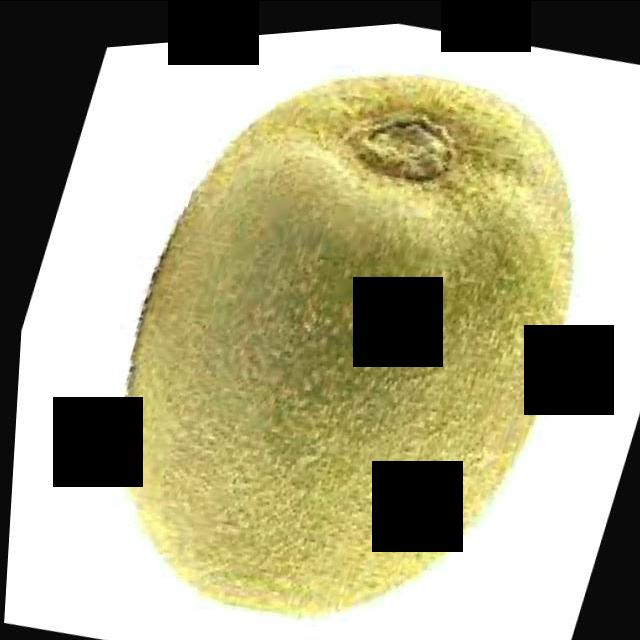kiwi: (59, 10, 633, 640)
